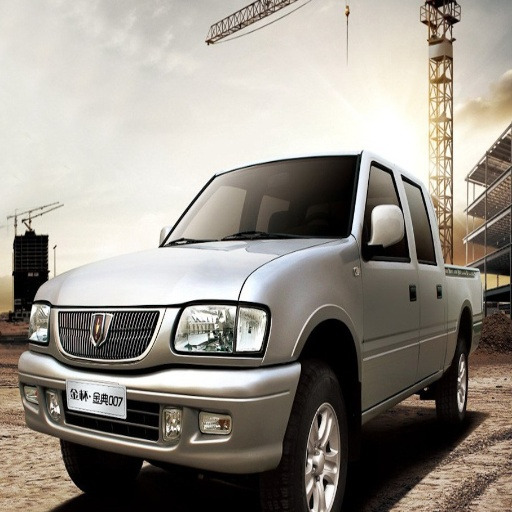front_bumper: (21, 303, 300, 474)
front_glass: (160, 158, 359, 246)
front_left_door: (361, 161, 421, 403)
trunk: (447, 265, 483, 325)
